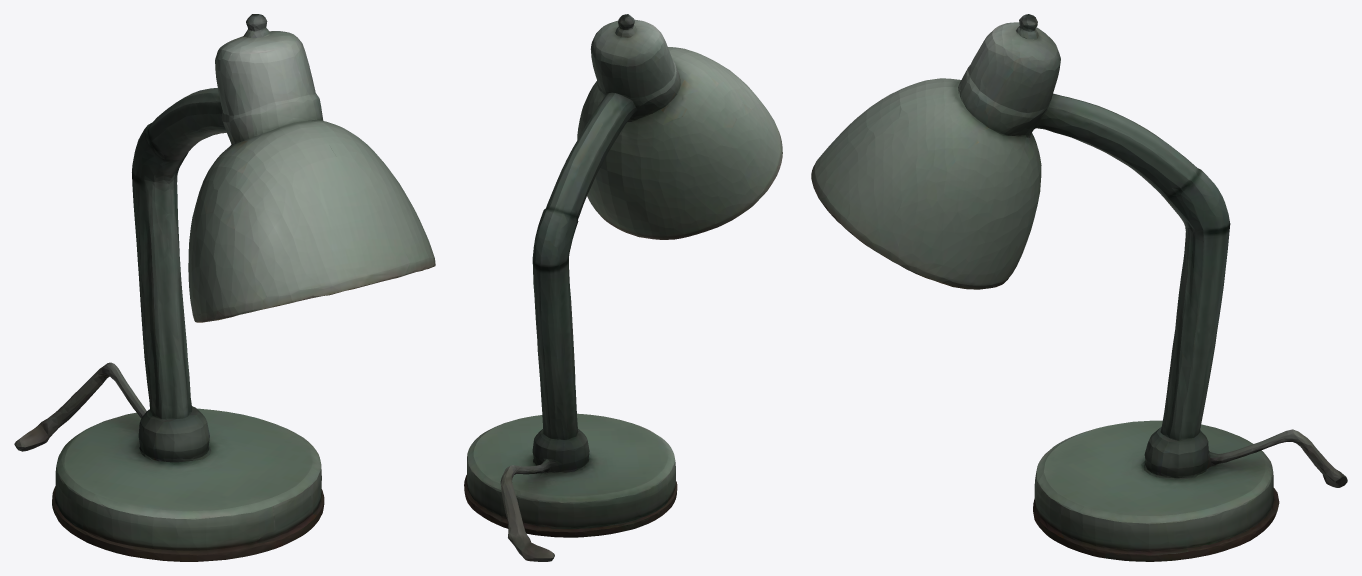
The model's file is desk lamp.glb.
3 views of the same model, side by side, from view 1: azimuth 30°, elevation 25°; view 2: azimuth 150°, elevation 25°; view 3: azimuth 270°, elevation 25° (orthographic). The views are drawn at different scales.
Parts seen in each view (by area): view 1: world; view 2: world; view 3: world.
Part boxes in pixels (x1,y1,x2,y2): world: (14,14,435,561); world: (464,14,782,561); world: (811,14,1347,561).
Bounding box in the file's own units: 0.4485 × 0.9993 × 0.9799.
Materials: 1 (1 with a texture image).
